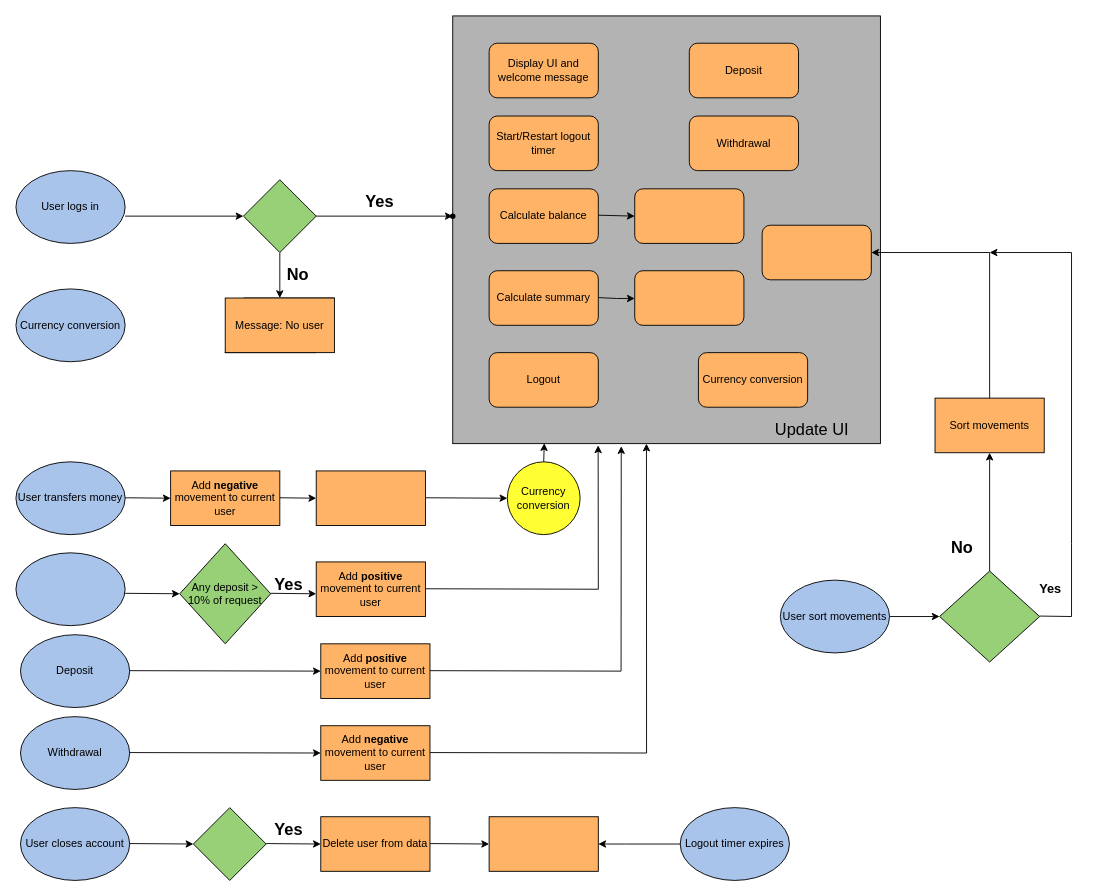
Image size: 1095x896. Some labels were removed from this diagram. Each missing label, with the box of its shape:
Add positive movement to destinatar: (315, 470, 425, 526)
Already sorted: (939, 570, 1040, 662)
Correct credentials: (243, 179, 316, 253)
Correct credentials?: (192, 807, 266, 880)
Display balance: (634, 188, 744, 243)
Display movements: (761, 224, 871, 280)
Display summary: (634, 270, 744, 325)
Log user out (hide UI): (488, 816, 598, 871)
User request loan: (15, 552, 125, 626)
